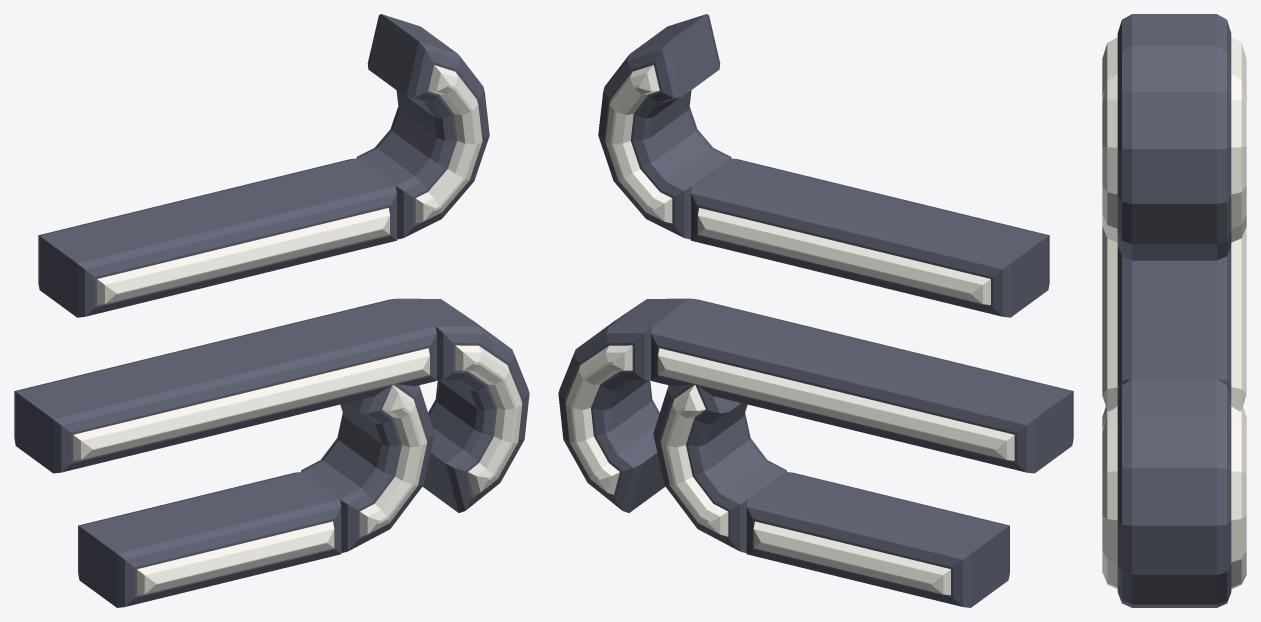
Rendered from game-ui-icon-library-wind-swirl-4a1b9c8d__19032.glb.
The picture shows the model from 3 angles, left to right: view 1: azimuth 30°, elevation 25°; view 2: azimuth 150°, elevation 25°; view 3: azimuth 270°, elevation 25°; orthographic projection. The views are drawn at different scales.
Visible parts, largest first — view 1: wind-swirl; view 2: wind-swirl; view 3: wind-swirl.
Part boxes in pixels (left/top/right/bottom): wind-swirl: left=14, top=14, right=529, bottom=607; wind-swirl: left=558, top=14, right=1073, bottom=607; wind-swirl: left=1102, top=14, right=1246, bottom=607.
Bounding box in the file's own units: 0.9484 × 0.94 × 0.2225.
